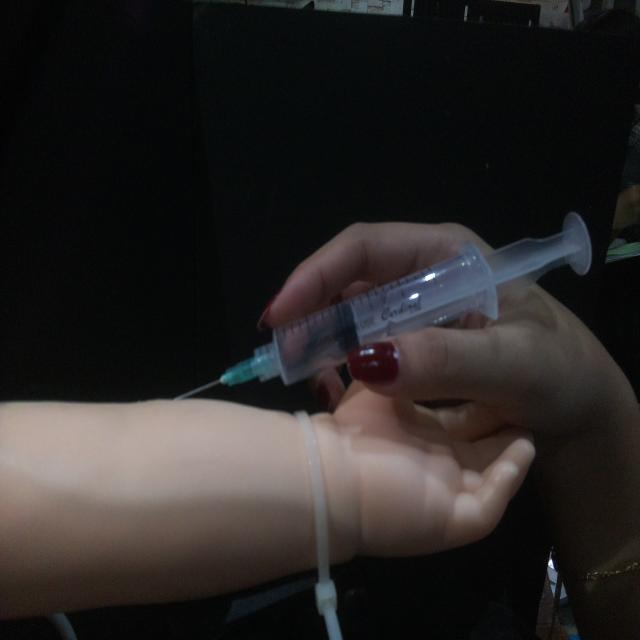17deg: (170, 208, 596, 404)
